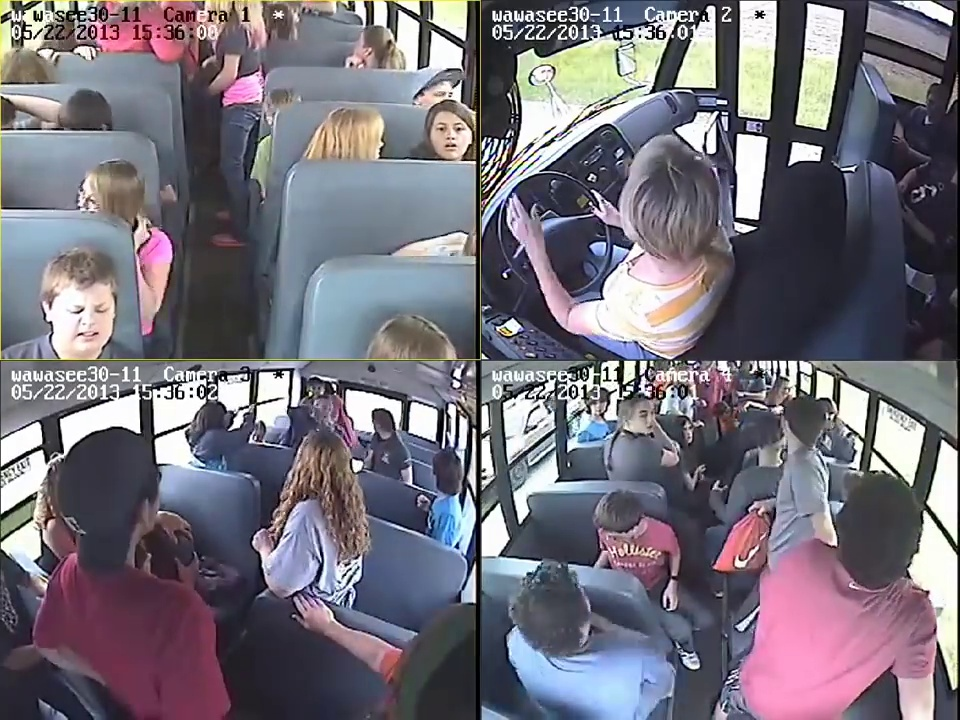face: (58, 297, 112, 348), (431, 115, 469, 155), (628, 403, 658, 436), (76, 178, 102, 210), (426, 79, 457, 103), (678, 422, 696, 442), (587, 399, 607, 415)
